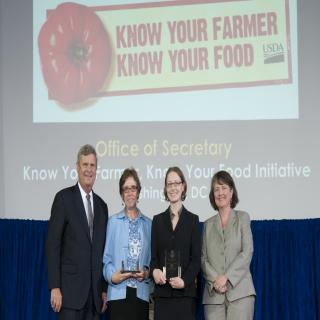tomato: (38, 1, 113, 106)
